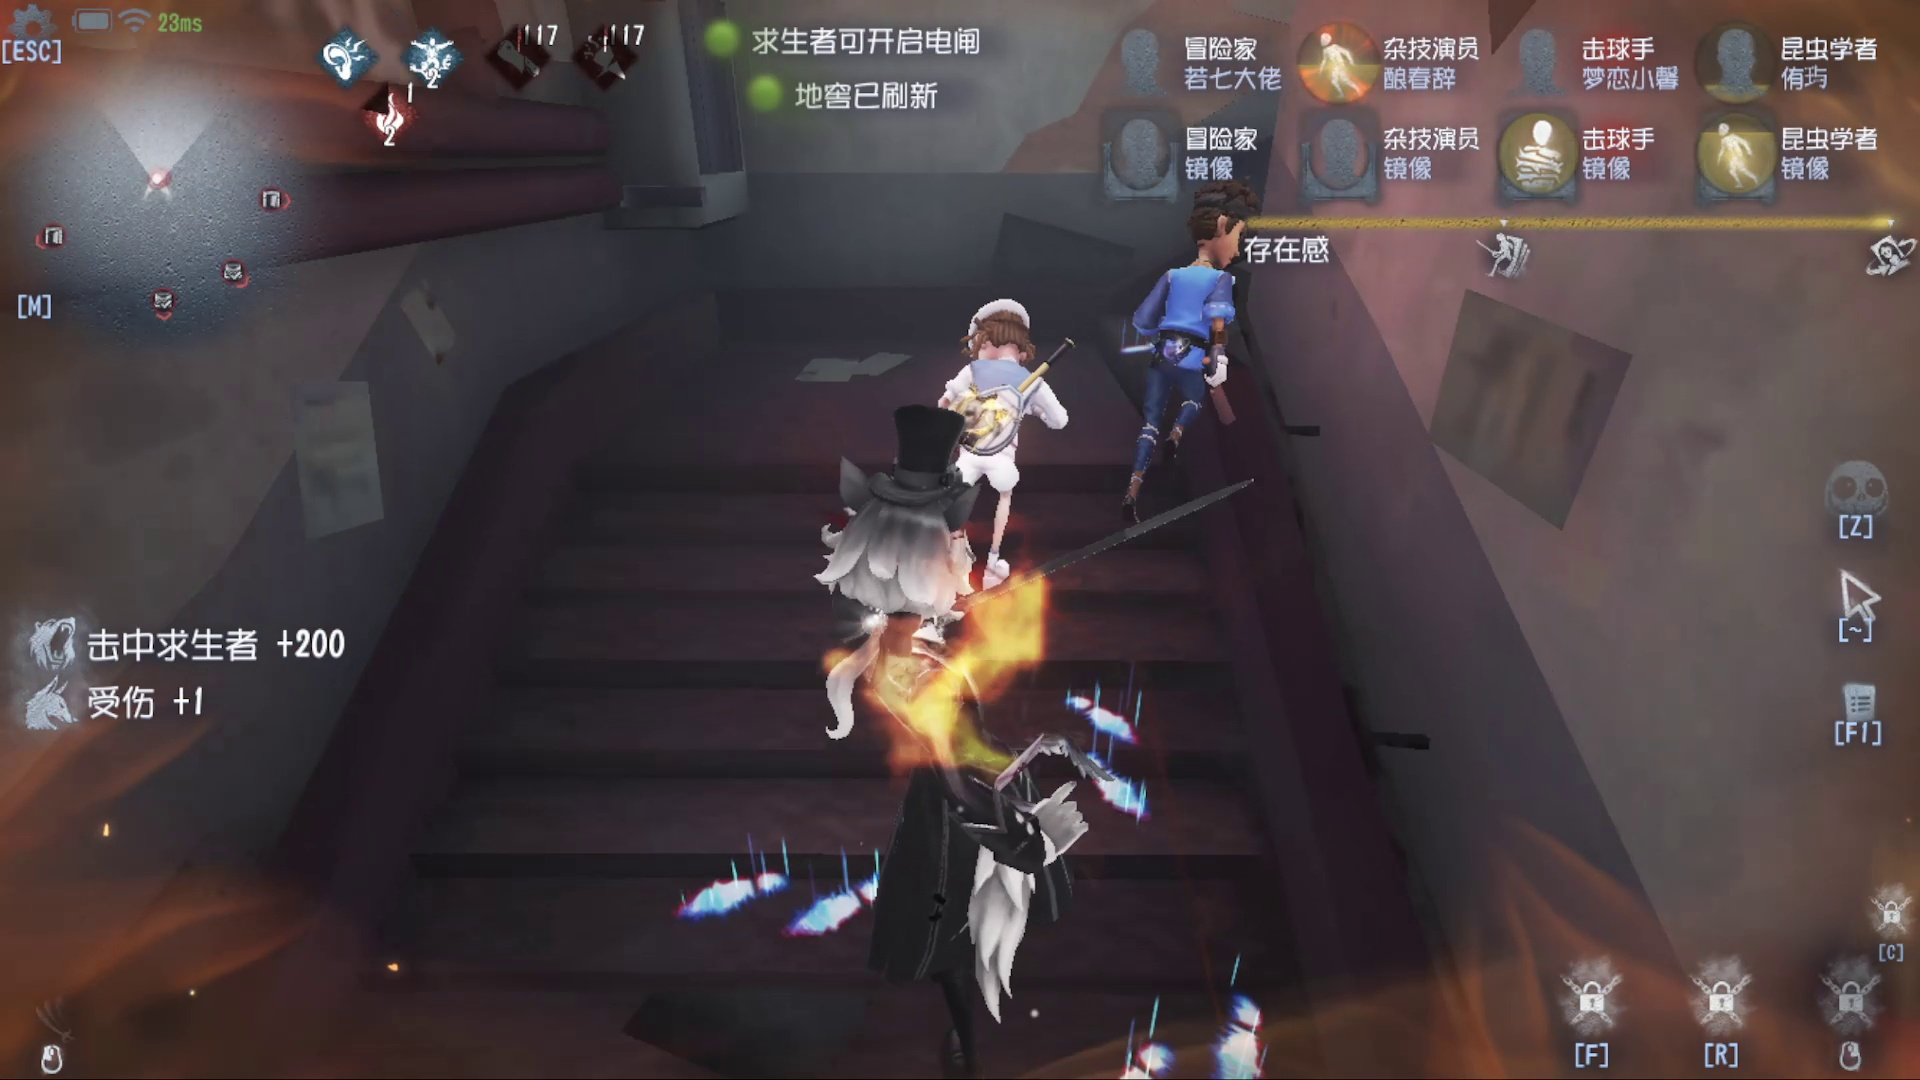求生者: (1116, 211, 1263, 496), (928, 291, 1047, 542)
